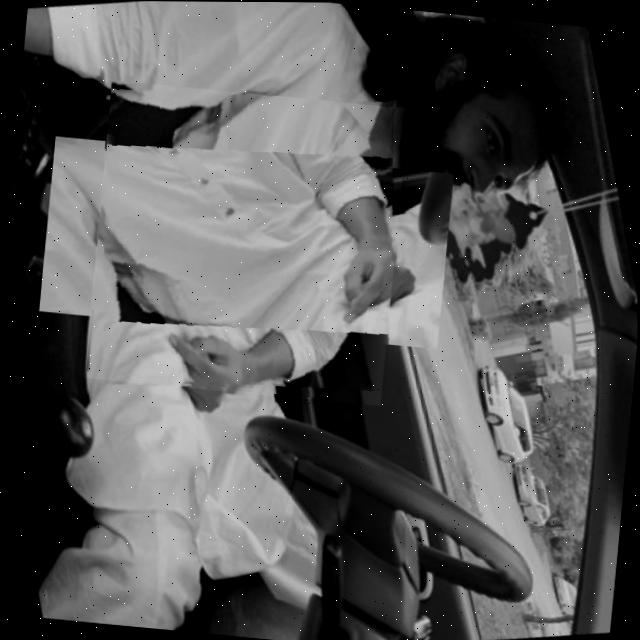no-seatbelt: (83, 79, 408, 405)
